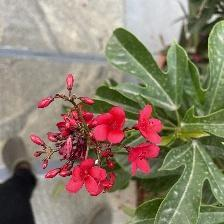jatropha: (69, 158, 106, 198), (93, 106, 127, 149), (138, 105, 167, 145), (126, 147, 163, 176)
